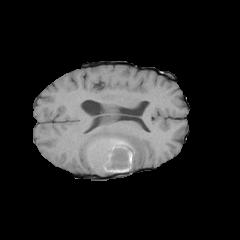glioma: (79, 118, 146, 175)
